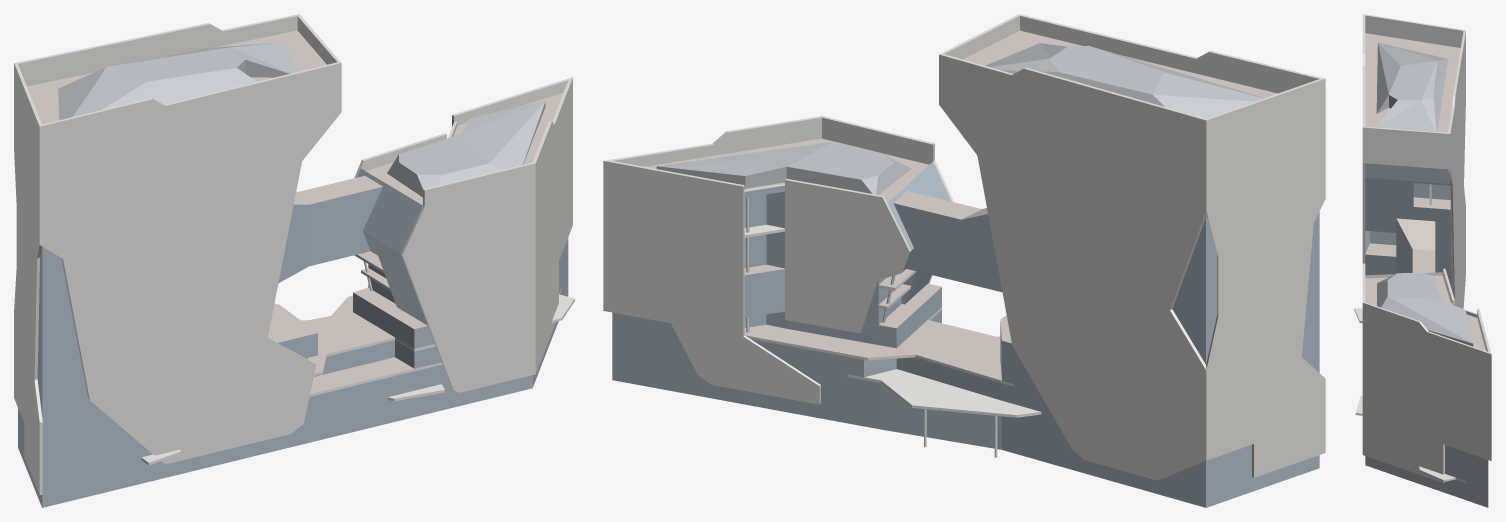
3 renders of one model, left to right at view 1: azimuth 30°, elevation 25°; view 2: azimuth 150°, elevation 25°; view 3: azimuth 270°, elevation 25°, orthographic. The views are drawn at different scales.
Parts seen in each view (by area): view 1: 70030076431343140lod; view 2: 70030076431343140lod; view 3: 70030076431343140lod.
Part boxes in pixels (<box>): 70030076431343140lod: <box>14,14,574,507</box>; 70030076431343140lod: <box>603,14,1325,507</box>; 70030076431343140lod: <box>1354,14,1491,507</box>.
Size of the model in its own units: 148 by 87.06 by 39.07.
Materials: 1 (1 with a texture image).
